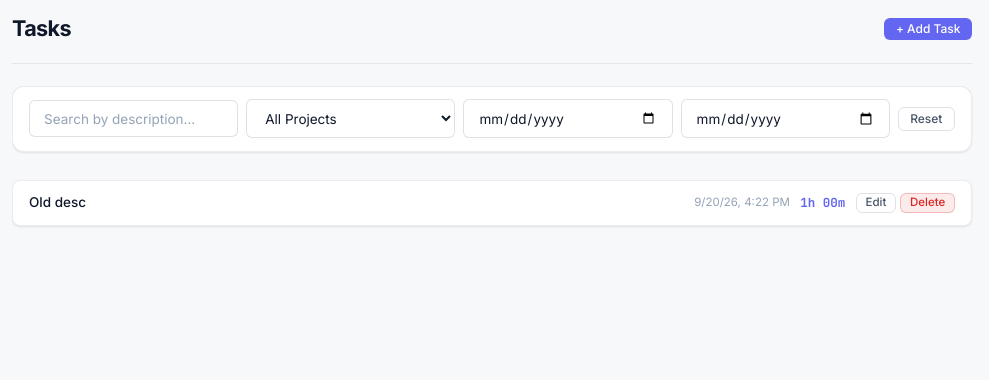
Test case: TasksPage › clicking Edit button shows pre-populated edit form
Click the button with test id "edit-btn-5".
click(876, 203)  # box [856,193,896,213]
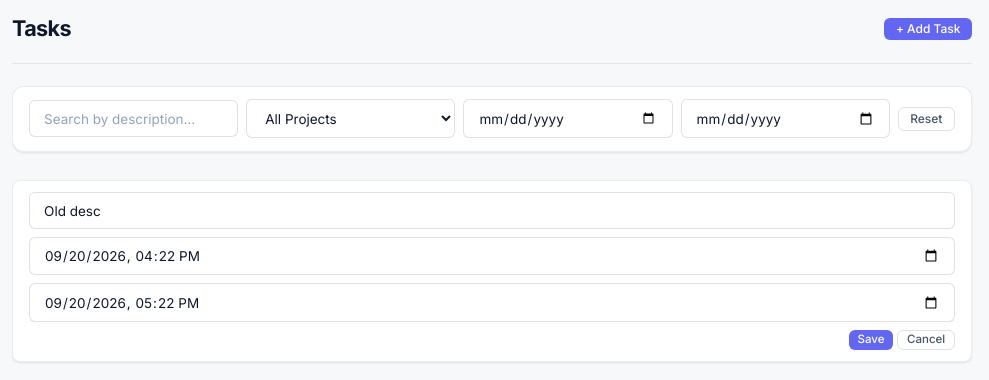
Now the form with test id "edit-form-5" is shown, box [29,192,955,350]
Now the field with test id "edit-desc-input" holds "Old desc", box [29,192,955,229]
